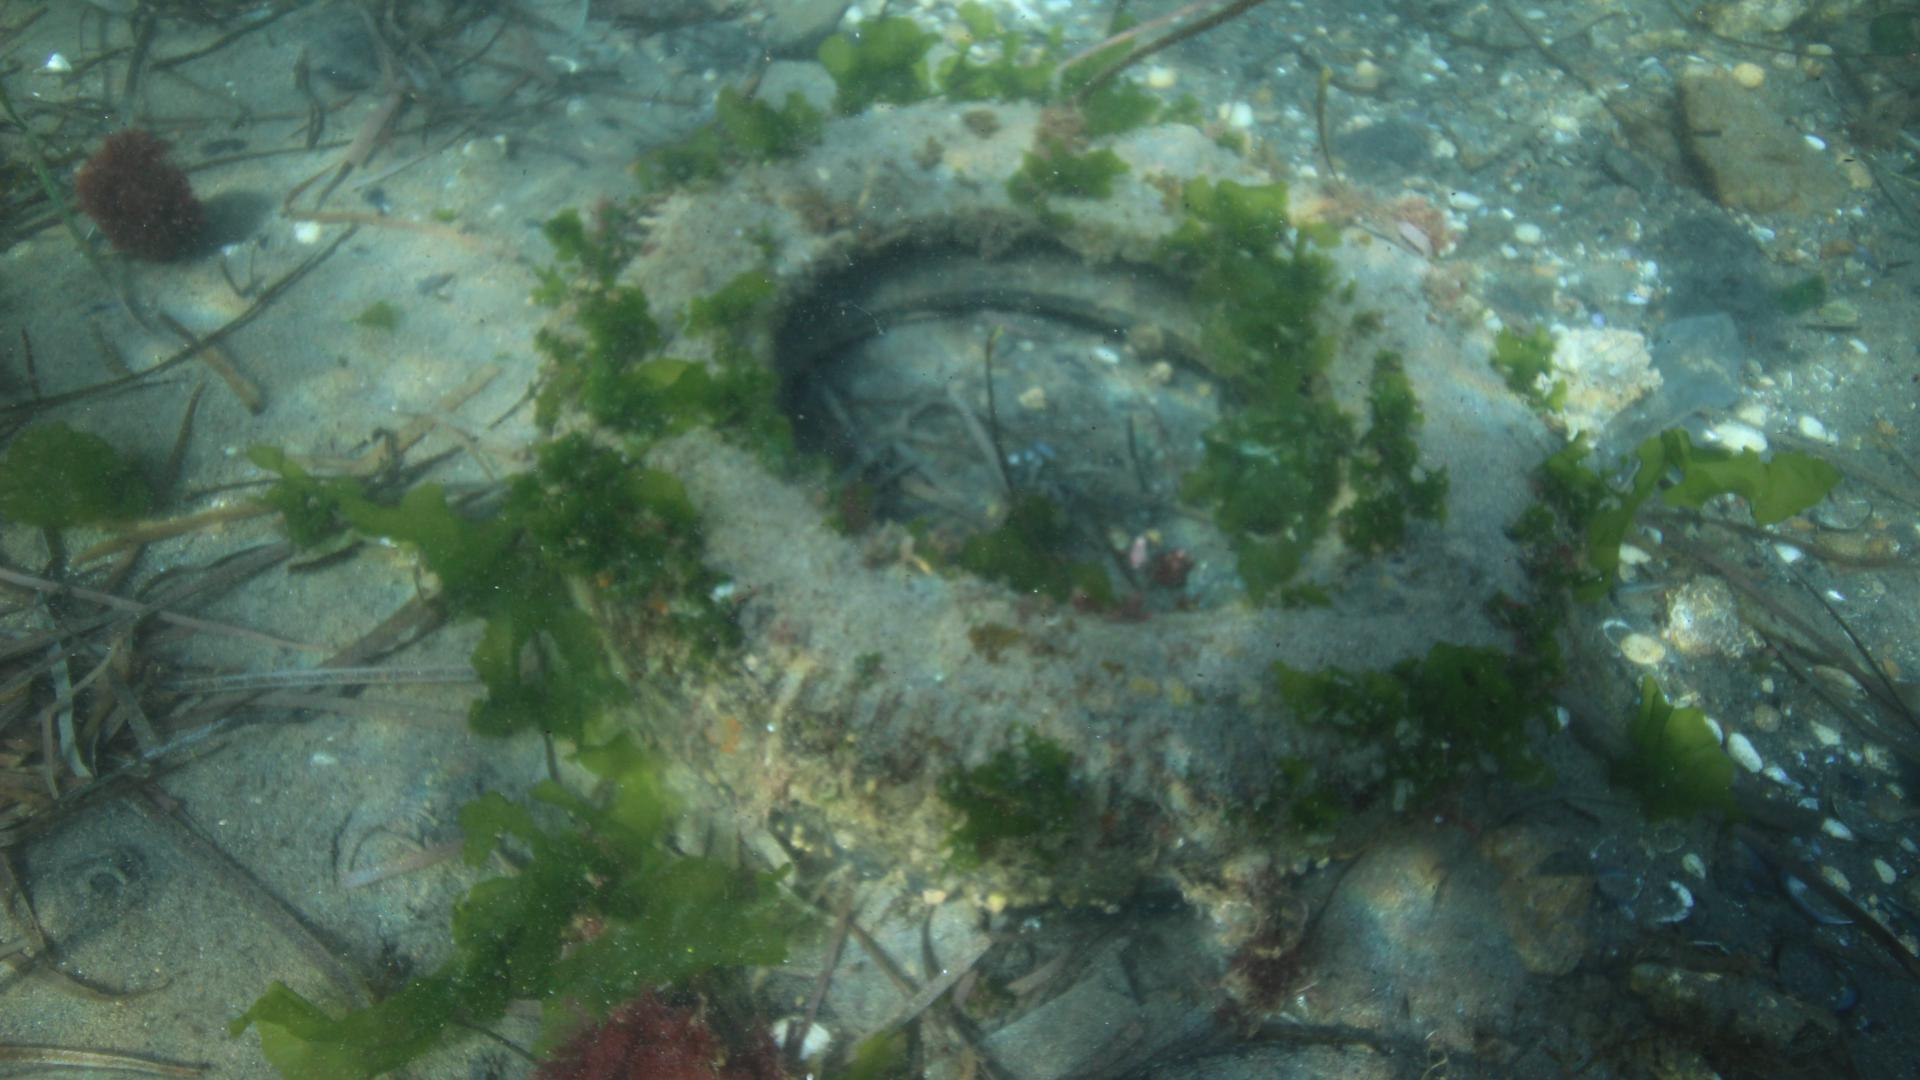tire: (549, 98, 1575, 923)
